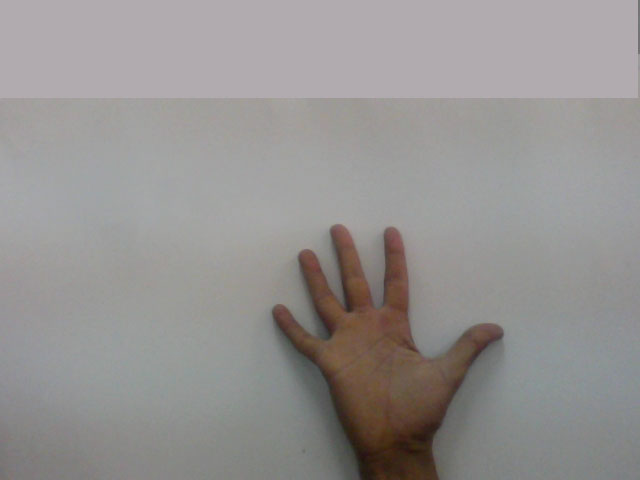hand: (264, 217, 515, 432)
